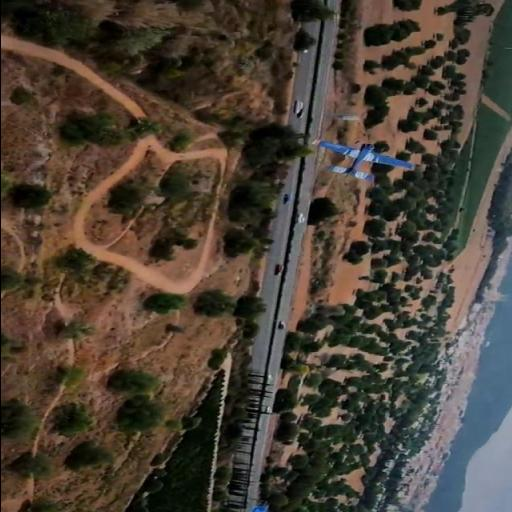uav: (310, 141, 412, 179)
